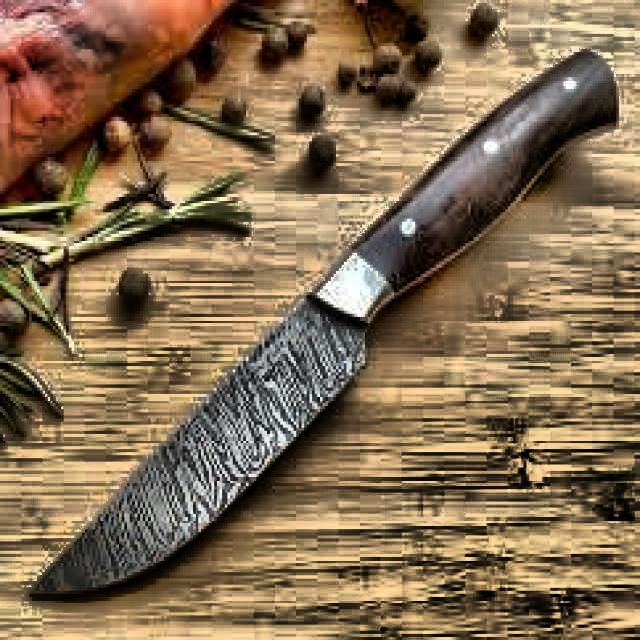knife: (20, 49, 625, 606)
